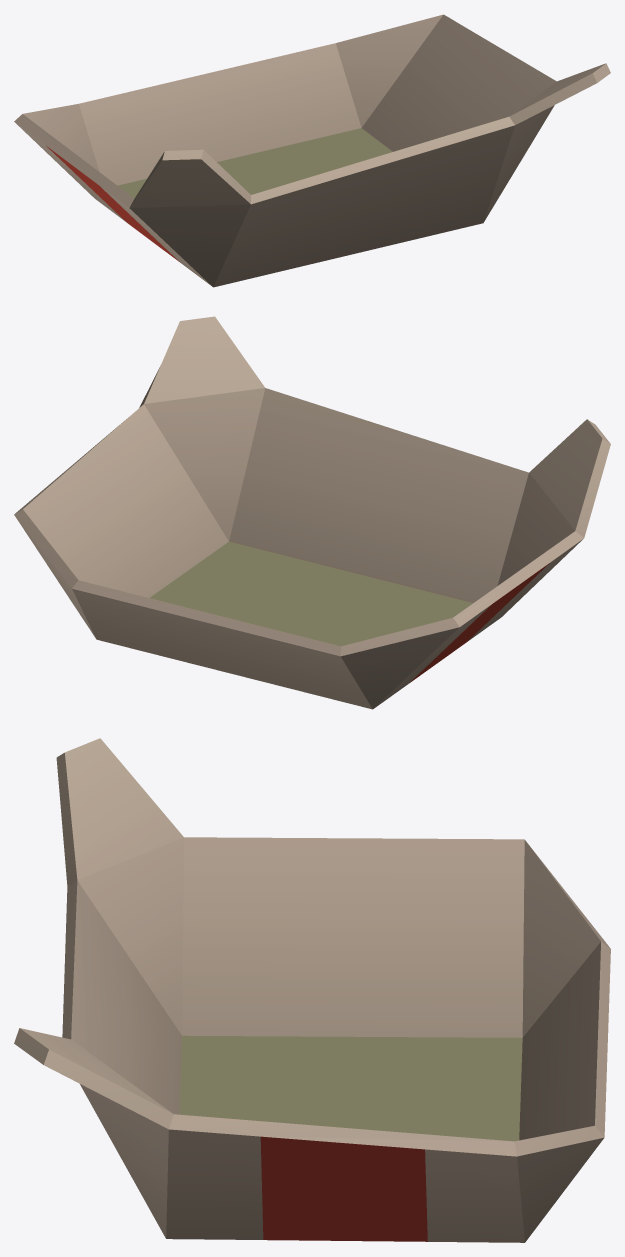
The model's file is Trash_007.fbx.
3 renders of one model, top to bottom at view 1: azimuth 30°, elevation 25°; view 2: azimuth 150°, elevation 25°; view 3: azimuth 270°, elevation 25°, orthographic. The views are drawn at different scales.
Parts seen in each view (by area): view 1: Trash_007; view 2: Trash_007; view 3: Trash_007.
Part boxes in pixels (<box>): Trash_007: <box>14,14,610,287</box>; Trash_007: <box>14,316,610,709</box>; Trash_007: <box>14,738,610,1242</box>.
Size of the model in its own units: 17.11 by 13.69 by 6.61.
